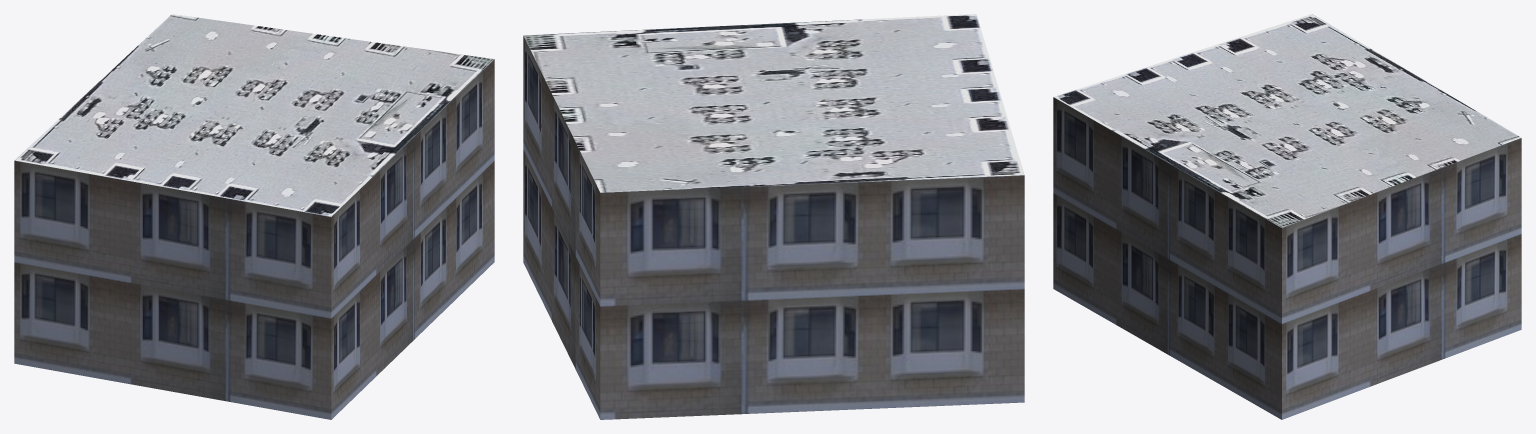
File: ResTex__1597.fbx
3 renders of one model, left to right at view 1: azimuth 30°, elevation 25°; view 2: azimuth 150°, elevation 25°; view 3: azimuth 270°, elevation 25°, orthographic. The views are drawn at different scales.
Parts seen in each view (by area): view 1: CityEngineMaterial_3_m, CityEngineMaterial_8_m; view 2: CityEngineMaterial_3_m, CityEngineMaterial_8_m; view 3: CityEngineMaterial_3_m, CityEngineMaterial_8_m.
Boxes of the visible parts, bbox=[...] form: CityEngineMaterial_3_m: bbox=[14, 59, 494, 419]; CityEngineMaterial_8_m: bbox=[15, 14, 493, 216]; CityEngineMaterial_3_m: bbox=[523, 36, 1024, 419]; CityEngineMaterial_8_m: bbox=[523, 14, 1024, 192]; CityEngineMaterial_3_m: bbox=[1053, 97, 1521, 419]; CityEngineMaterial_8_m: bbox=[1054, 14, 1521, 227].
Size of the model in its own units: 14.35 by 6 by 13.26.
2 materials, 2 textured.
